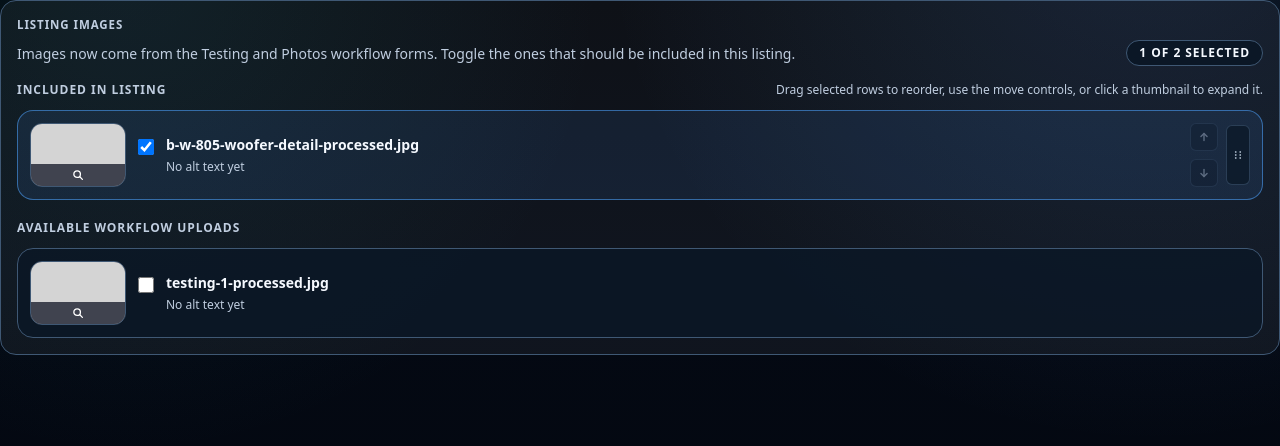
Test: WorkflowListingImageSelector › does not duplicate available uploads after deselecting a selected URL variant
expect the number of elements with test id "selected-listing-image-card" is 1: met, box [17, 110, 1263, 200]
Step 1. Click the checkbox next to "b-w-805-woofer-detail-processed.jpg" → (146, 147), box [138, 139, 154, 155]
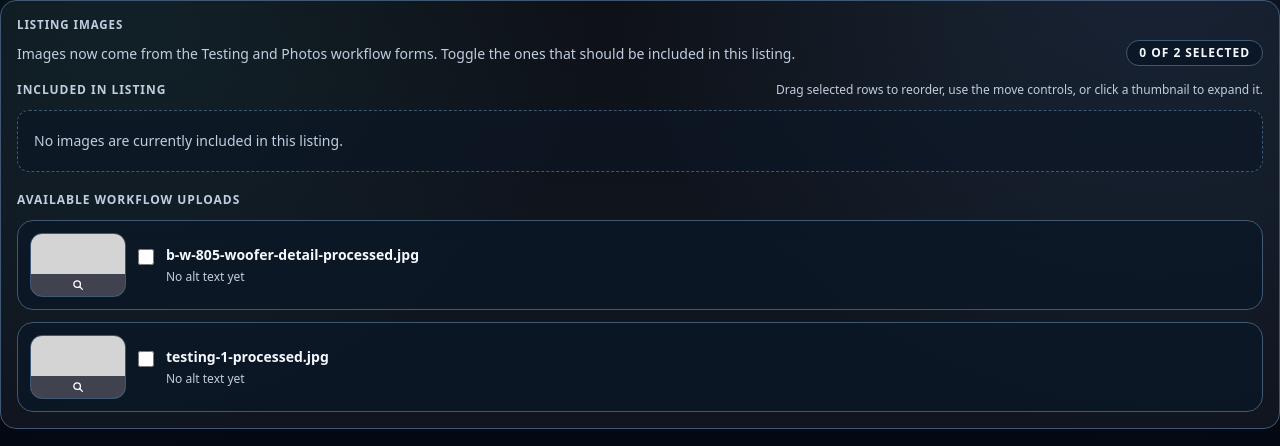
expect no elements with test id "selected-listing-image-card" are shown: met
expect the number of elements with test id "available-listing-image-card" is 2: met, box [17, 220, 1263, 310]; [17, 322, 1263, 412]
